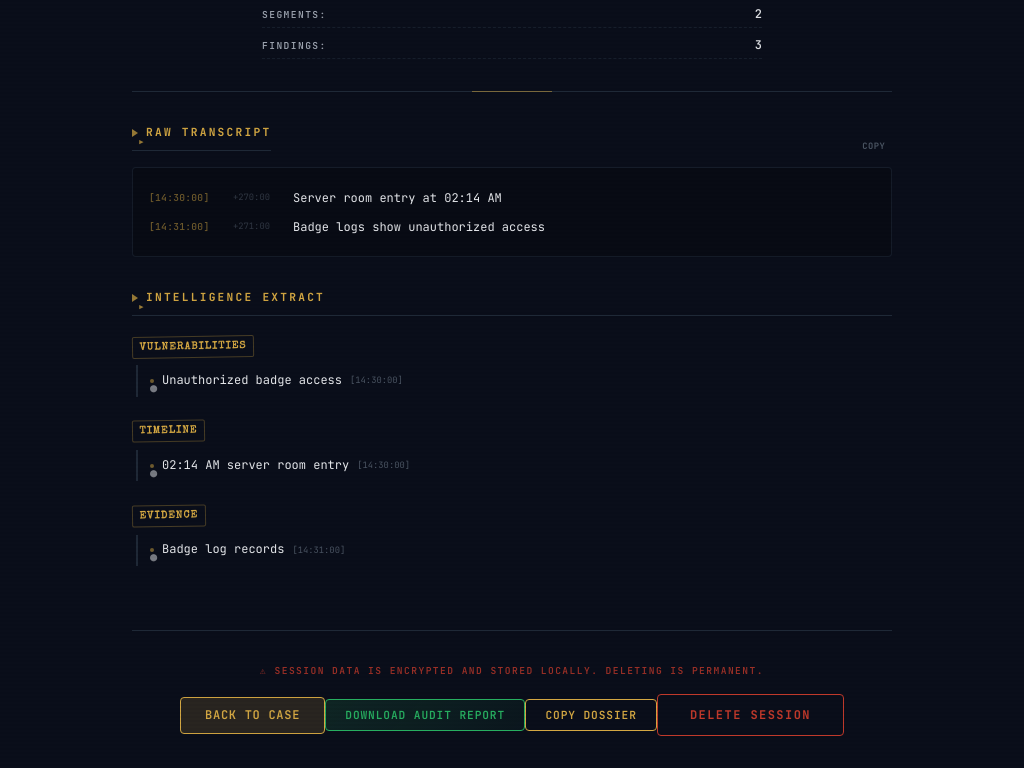
Test: SessionSummary › requires confirmation before deleting
This screenshot has width=1024, height=768.
(page scrolled)
Click the button "DELETE SESSION".
click(750, 715)  # box [657,694,844,736]
(page scrolled)
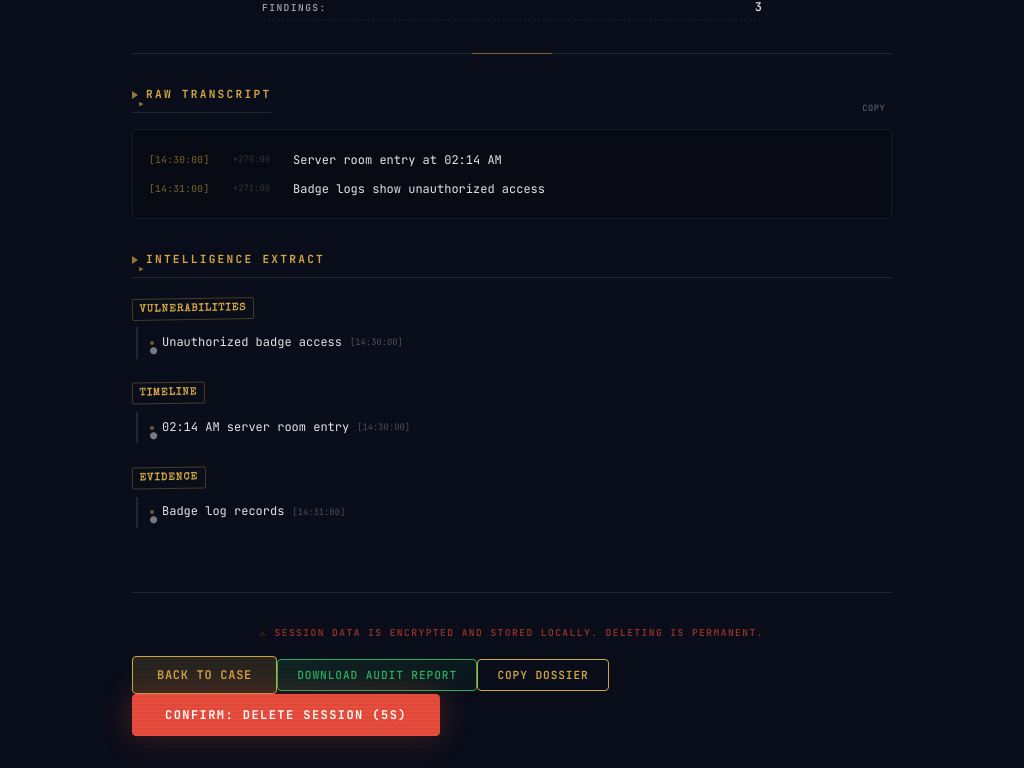
Now the button "CONFIRM: DELETE SESSION (5s)" is shown, box [132,694,440,736]
